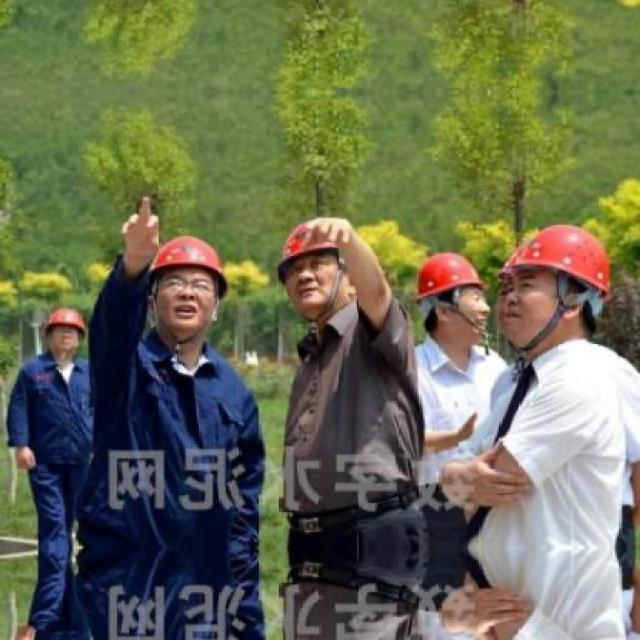helmet: (502, 217, 618, 347), (143, 228, 235, 349), (274, 211, 369, 324), (414, 247, 494, 347), (42, 307, 89, 361)
